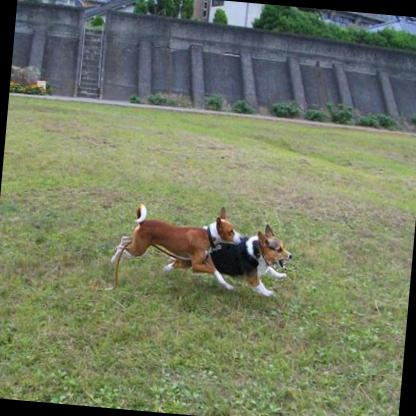basenji: (108, 199, 244, 292), (160, 212, 299, 300)
